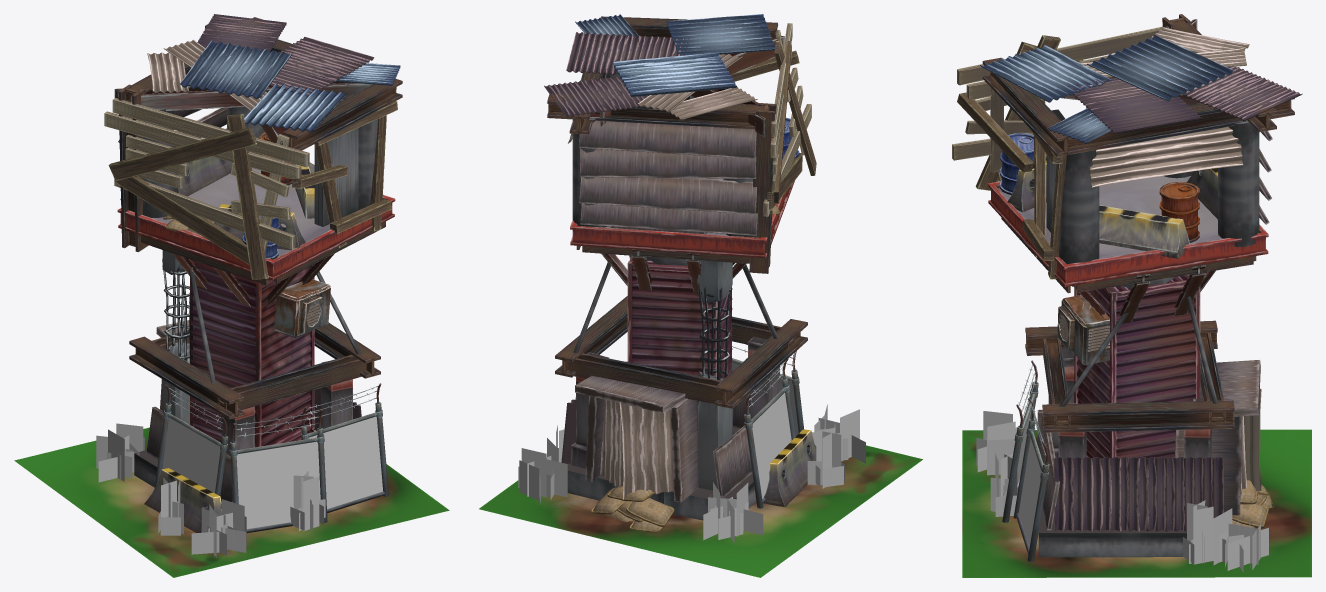
Rendered from tower_2.fbx.
3 renders of one model, left to right at view 1: azimuth 30°, elevation 25°; view 2: azimuth 150°, elevation 25°; view 3: azimuth 270°, elevation 25°, orthographic. The views are drawn at different scales.
Parts seen in each view (by area): view 1: tower2.0; view 2: tower2.0; view 3: tower2.0.
Part boxes in pixels (x1,y1,x2,y2): tower2.0: (14,14,449,577); tower2.0: (479,14,922,577); tower2.0: (952,14,1311,577).
Bounding box in the file's own units: 14.42 × 20.32 × 14.43.
